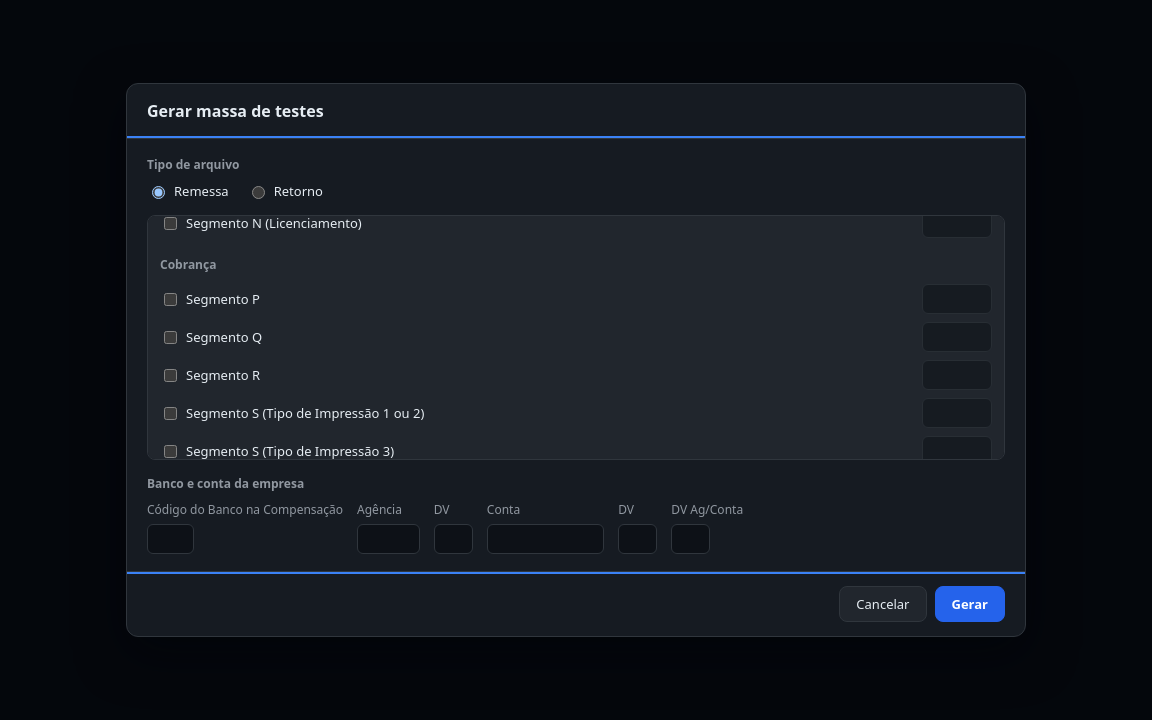
Test: GeneratorDialog (US4): direção › trocar para Retorno filtra a lista e avisa o que foi removido (US4-1)
(page scrolled)
Step 1. Click the checkbox labelled "Segmento Q" → (170, 337), box [164,331,177,344]
(page scrolled)
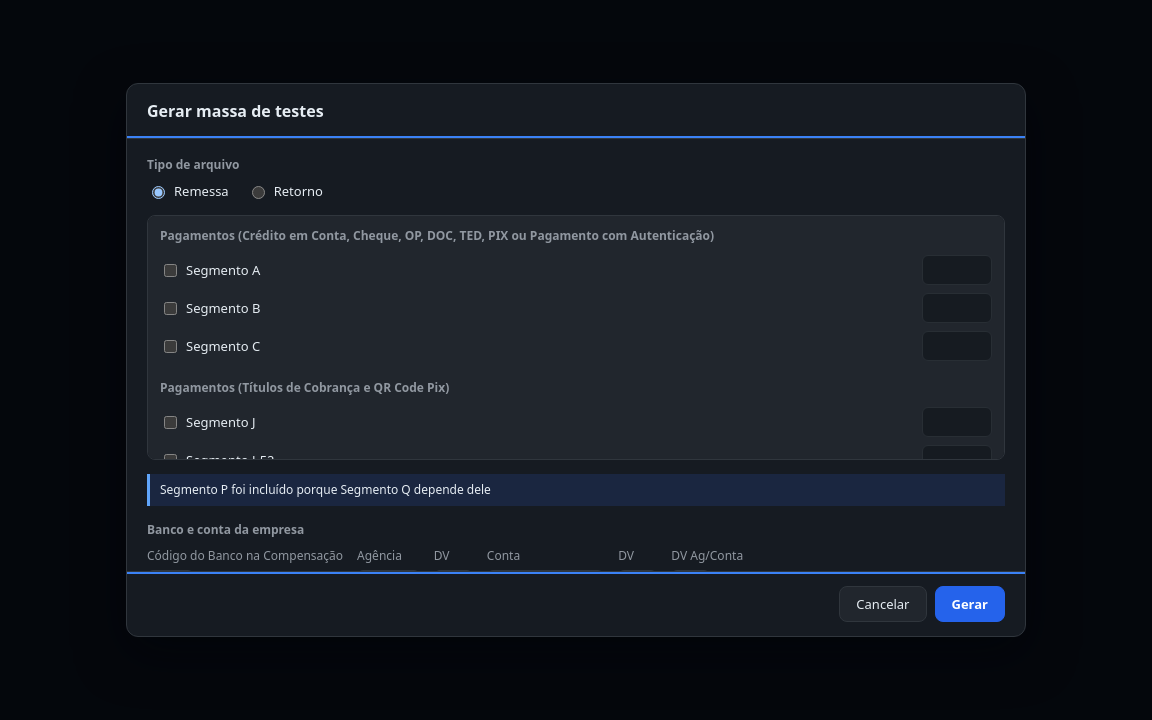
Step 2. Click the checkbox with test id "generator-variant-segmento-a-pagamento" → (170, 270), box [164,264,177,277]
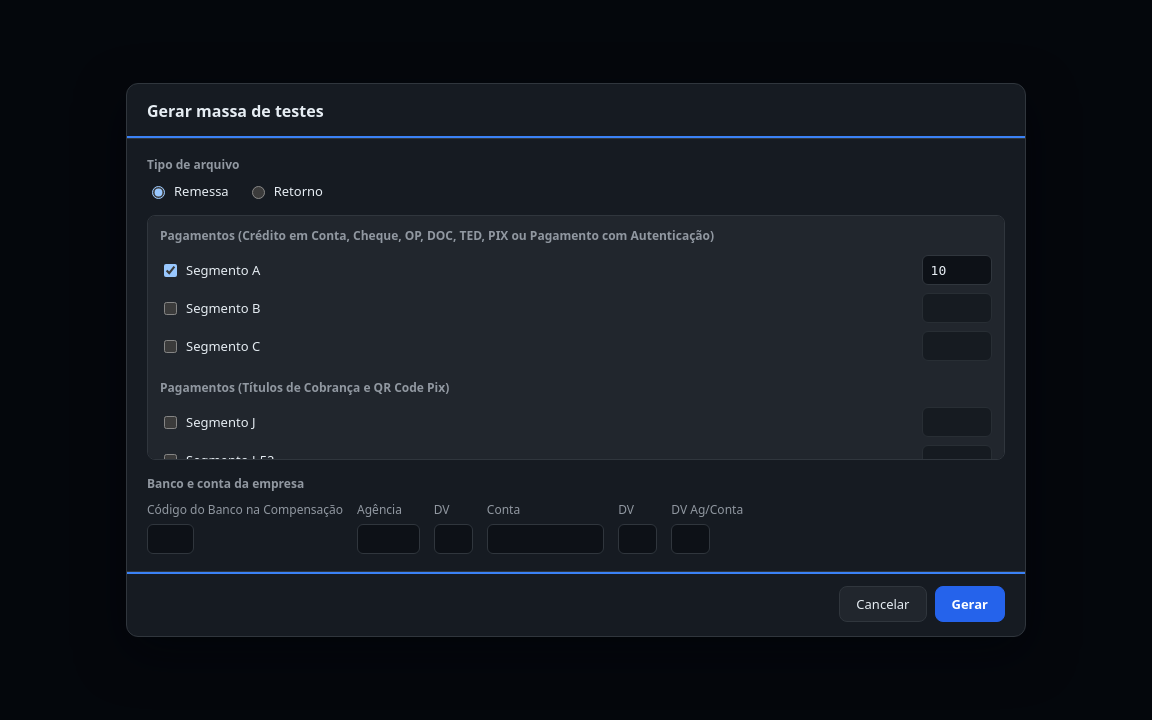
Step 3. Click the radio button with test id "generator-direction-retorno" → (258, 193), box [252,186,265,199]
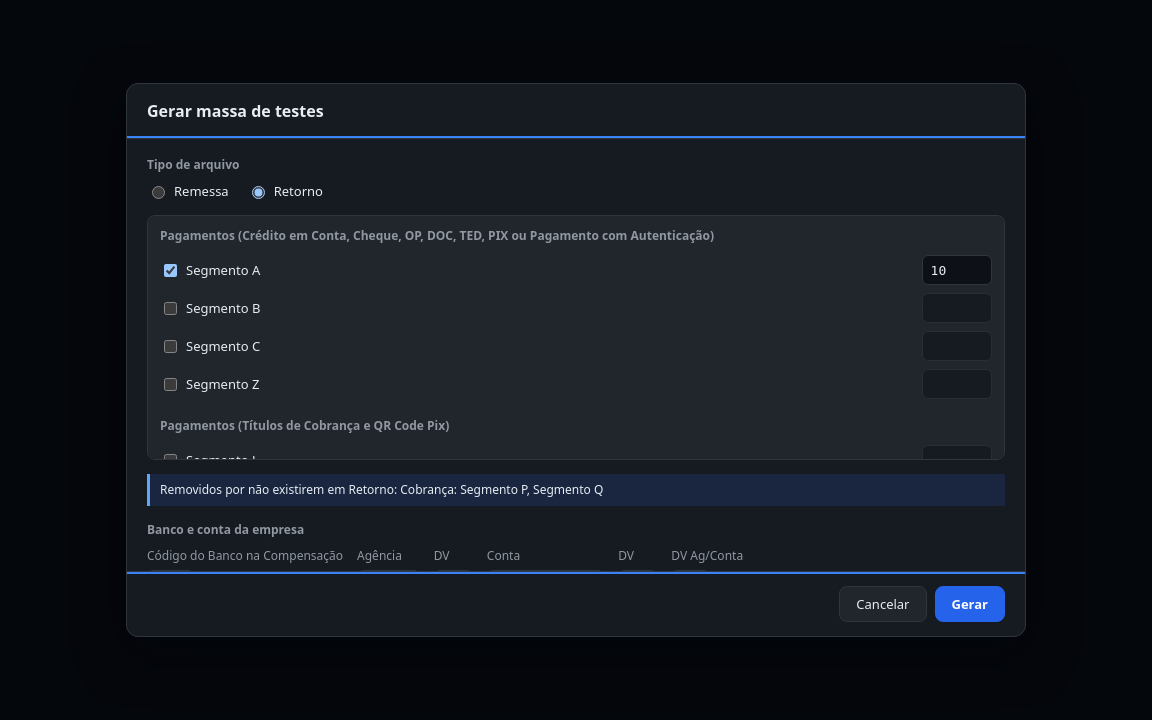
Expected: the radio button with test id "generator-direction-retorno" is checked, [252,186,265,199]
Expected: the checkbox with test id "generator-variant-segmento-a-pagamento" is checked, [164,264,177,277]
Expected: the message with test id "generator-notices" reads "Removidos por não existirem em Retorno: Cobrança: Segmento P, Segmento Q", [160,481,603,498]
